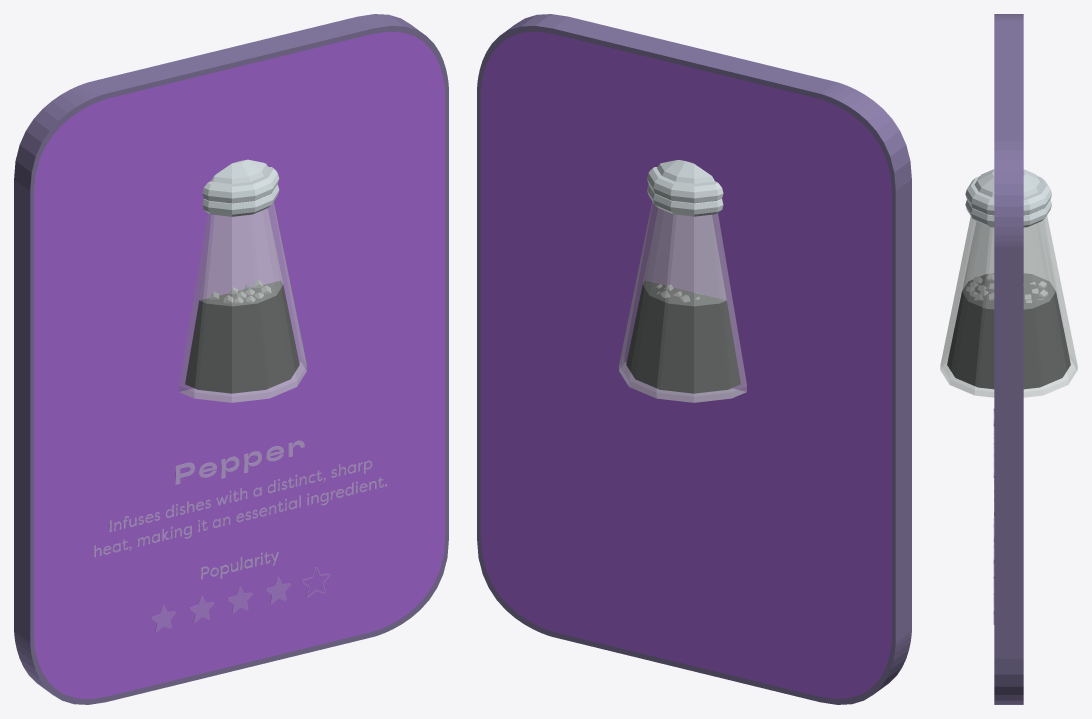
Rendered from pepper.gltf.
3 views of the same model, side by side, from view 1: azimuth 30°, elevation 25°; view 2: azimuth 150°, elevation 25°; view 3: azimuth 270°, elevation 25° (orthographic). The views are drawn at different scales.
Visible parts, largest first — view 1: Curve.007, Curve, model.038, Text.001, Text; view 2: Curve.007, Curve, model.038; view 3: Curve, model.038.
Boxes of the visible parts, x1=… form: Curve.007: x1=34, y1=31, x2=445, y2=698; Curve: x1=14, y1=14, x2=448, y2=704; model.038: x1=179, y1=159, x2=306, y2=402; Text.001: x1=94, y1=460, x2=387, y2=557; Text: x1=175, y1=440, x2=304, y2=484; Curve.007: x1=480, y1=31, x2=891, y2=698; Curve: x1=477, y1=14, x2=911, y2=704; model.038: x1=619, y1=160, x2=746, y2=402; Curve: x1=994, y1=14, x2=1023, y2=704; model.038: x1=940, y1=169, x2=1077, y2=397.
Bounding box in the file's own units: 3.61 × 5.01 × 1.12.
